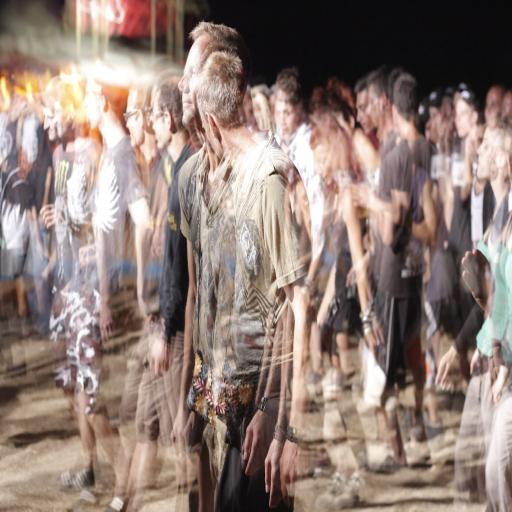face: (179, 36, 208, 125), (275, 90, 301, 140), (151, 89, 171, 150), (477, 127, 498, 179), (125, 90, 144, 147), (314, 144, 333, 186), (456, 99, 475, 138), (357, 89, 374, 132), (485, 87, 502, 127), (365, 85, 380, 130), (84, 92, 102, 129), (54, 102, 71, 139), (43, 106, 57, 142), (243, 92, 256, 126), (502, 92, 511, 119)
